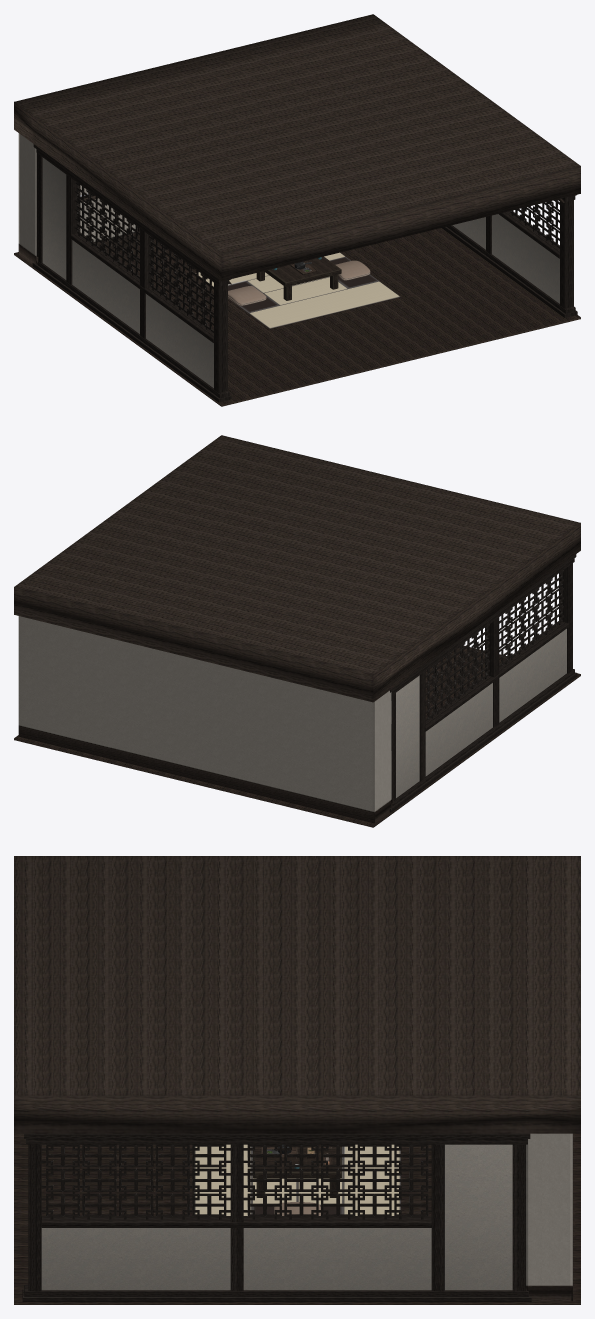
Rendered from Tea Room.fbx.
3 views of the same model, one above another, from view 1: azimuth 30°, elevation 25°; view 2: azimuth 150°, elevation 25°; view 3: azimuth 270°, elevation 25° (orthographic). The views are drawn at different scales.
Parts seen in each view (by area): view 1: Roof.Shape, Floor.Shape, MTHSideWall.Shape, MTHSideWall_dup_2.Shape, MTHBigMat.Shape, Backdrop1.Shape, MTHTable1.Shape, MTHPillow.Shape, MTHPillow_dup_2.Shape; view 2: Roof.Shape, Backdrop1.Shape, MTHSideWall.Shape, Floor.Shape; view 3: Roof.Shape, MTHSideWall_dup_2.Shape, Floor.Shape, Backdrop1.Shape, MTHBigMat.Shape, MTHTable1.Shape.
Part boxes in pixels (box(x1,y1,x2,y2)): Roof.Shape: box(14, 14, 580, 281); Floor.Shape: box(14, 228, 580, 406); MTHSideWall.Shape: box(32, 144, 231, 402); MTHSideWall_dup_2.Shape: box(442, 195, 577, 317); MTHBigMat.Shape: box(195, 252, 400, 328); Backdrop1.Shape: box(18, 133, 155, 264); MTHTable1.Shape: box(256, 256, 341, 300); MTHPillow.Shape: box(228, 286, 266, 305); MTHPillow_dup_2.Shape: box(335, 260, 370, 280); Roof.Shape: box(14, 435, 580, 702); Backdrop1.Shape: box(18, 616, 393, 823); MTHSideWall.Shape: box(389, 554, 577, 812); Floor.Shape: box(14, 645, 580, 827); Roof.Shape: box(14, 856, 580, 1133); MTHSideWall_dup_2.Shape: box(22, 1133, 531, 1302); Floor.Shape: box(14, 1133, 580, 1304); Backdrop1.Shape: box(526, 1133, 572, 1301); MTHBigMat.Shape: box(194, 1144, 400, 1215); MTHTable1.Shape: box(253, 1144, 341, 1197).
Bounding box in the file's own units: 756 × 308 × 756.
